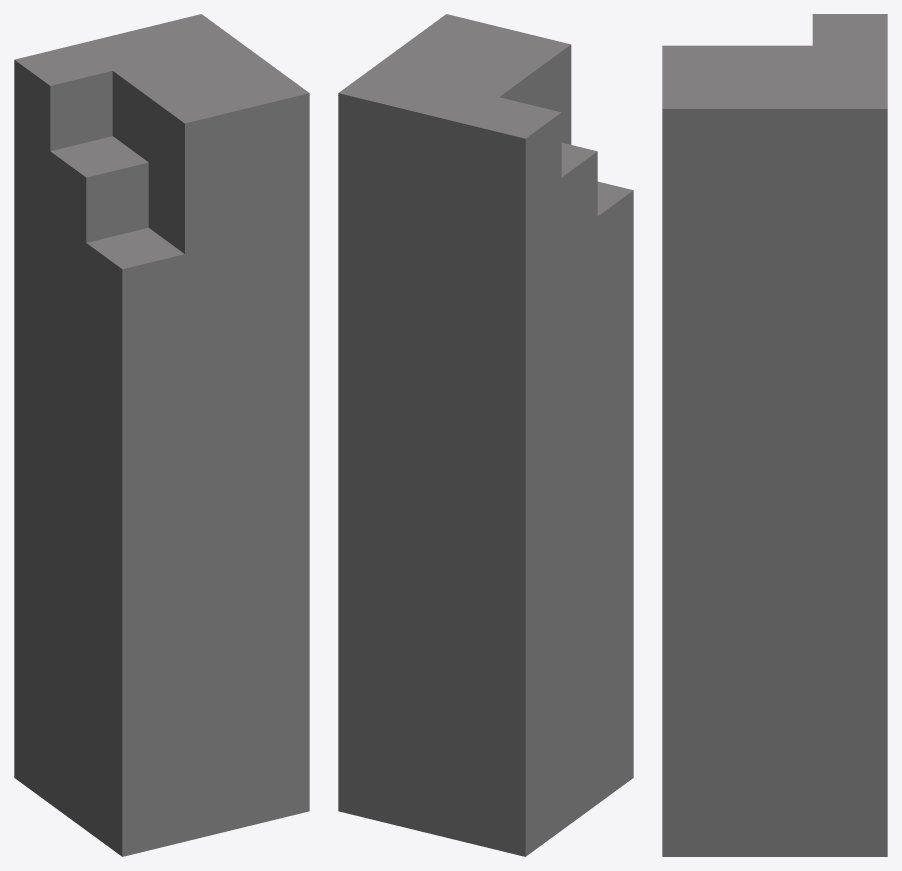
Rendered from wolf__leg_bl.obj.
The picture shows the model from 3 angles, left to right: view 1: azimuth 30°, elevation 25°; view 2: azimuth 150°, elevation 25°; view 3: azimuth 270°, elevation 25°; orthographic projection. The views are drawn at different scales.
Parts seen in each view (by area): view 1: wolf__leg_bl; view 2: wolf__leg_bl; view 3: wolf__leg_bl.
Part boxes in pixels (<box>): wolf__leg_bl: <box>14,14,309,856</box>; wolf__leg_bl: <box>338,14,633,856</box>; wolf__leg_bl: <box>662,14,887,856</box>.
Size of the model in its own units: 0.3 by 1.1 by 0.3.
Materials: 1 (1 with a texture image).
